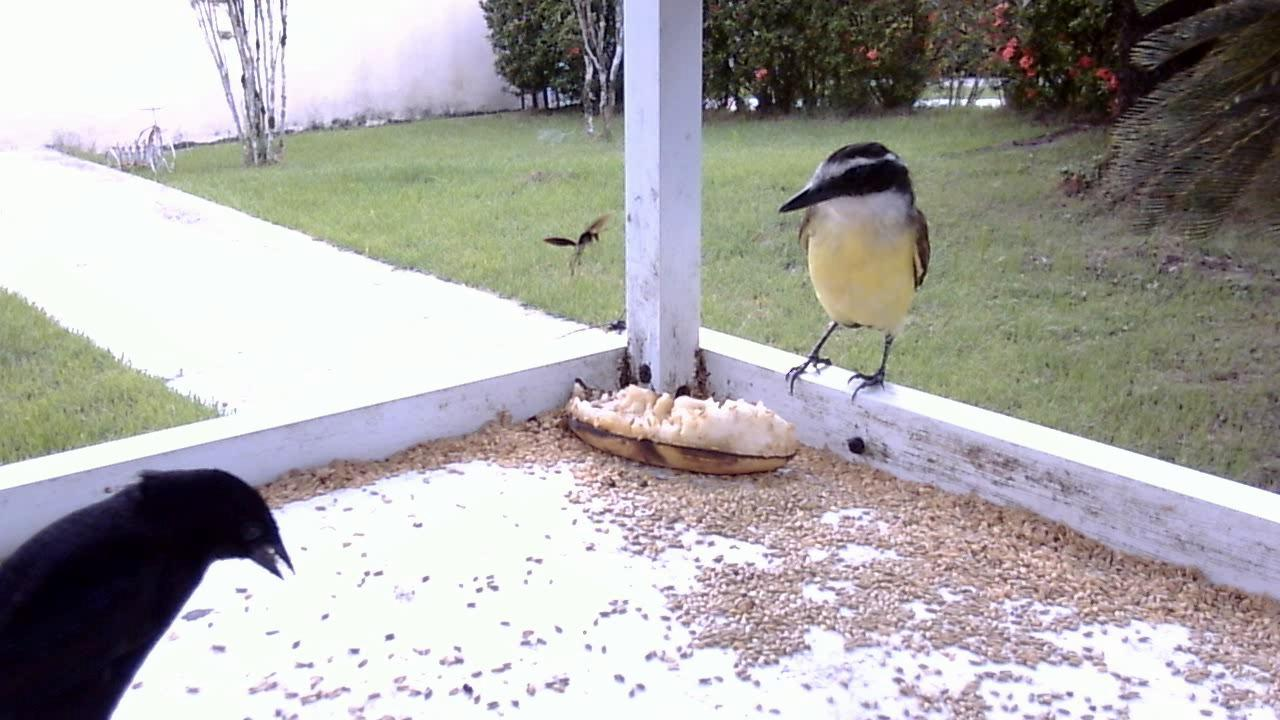bem_te_vi: (773, 137, 934, 419)
chupim: (1, 452, 304, 713)
